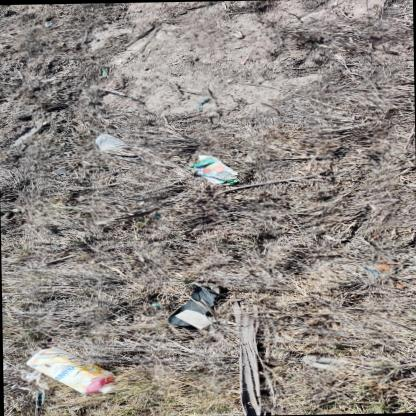Plastic: (26, 345, 117, 392), (190, 157, 237, 184), (95, 132, 127, 149), (101, 384, 116, 392)
Waste: (166, 281, 222, 326), (173, 308, 216, 328), (20, 367, 49, 388), (198, 154, 222, 162), (197, 97, 212, 103), (152, 301, 166, 306), (366, 267, 378, 272), (101, 68, 106, 75), (196, 105, 199, 109)
